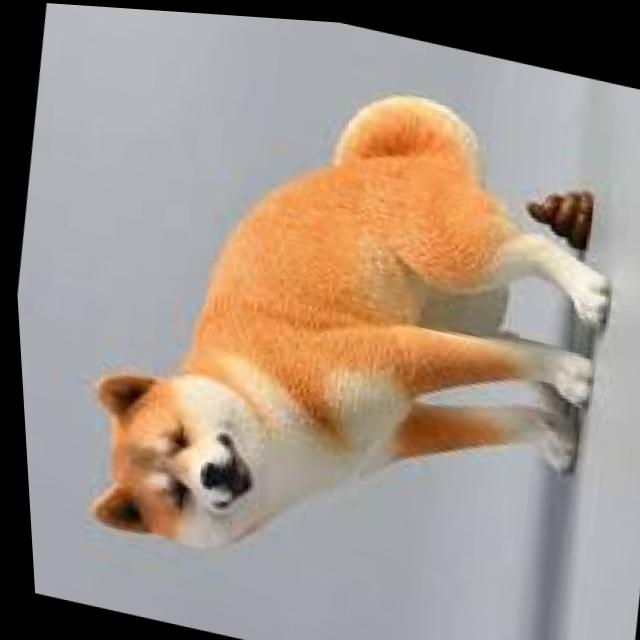dog: (55, 31, 640, 630)
